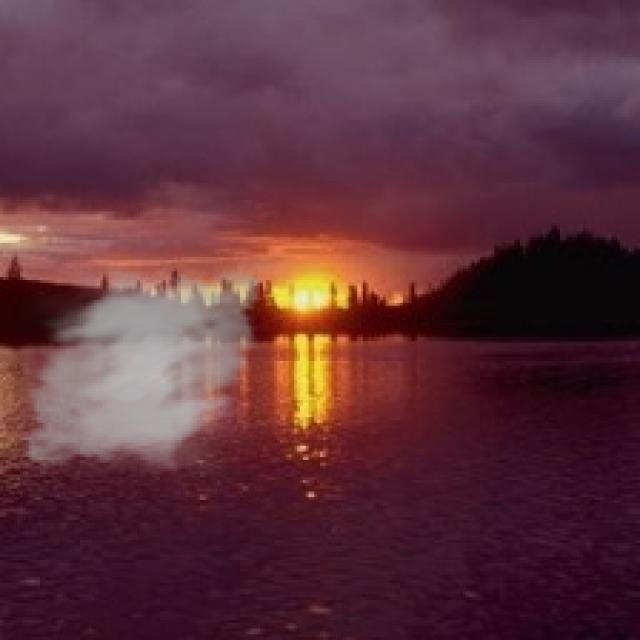smoke: (15, 248, 272, 483)
